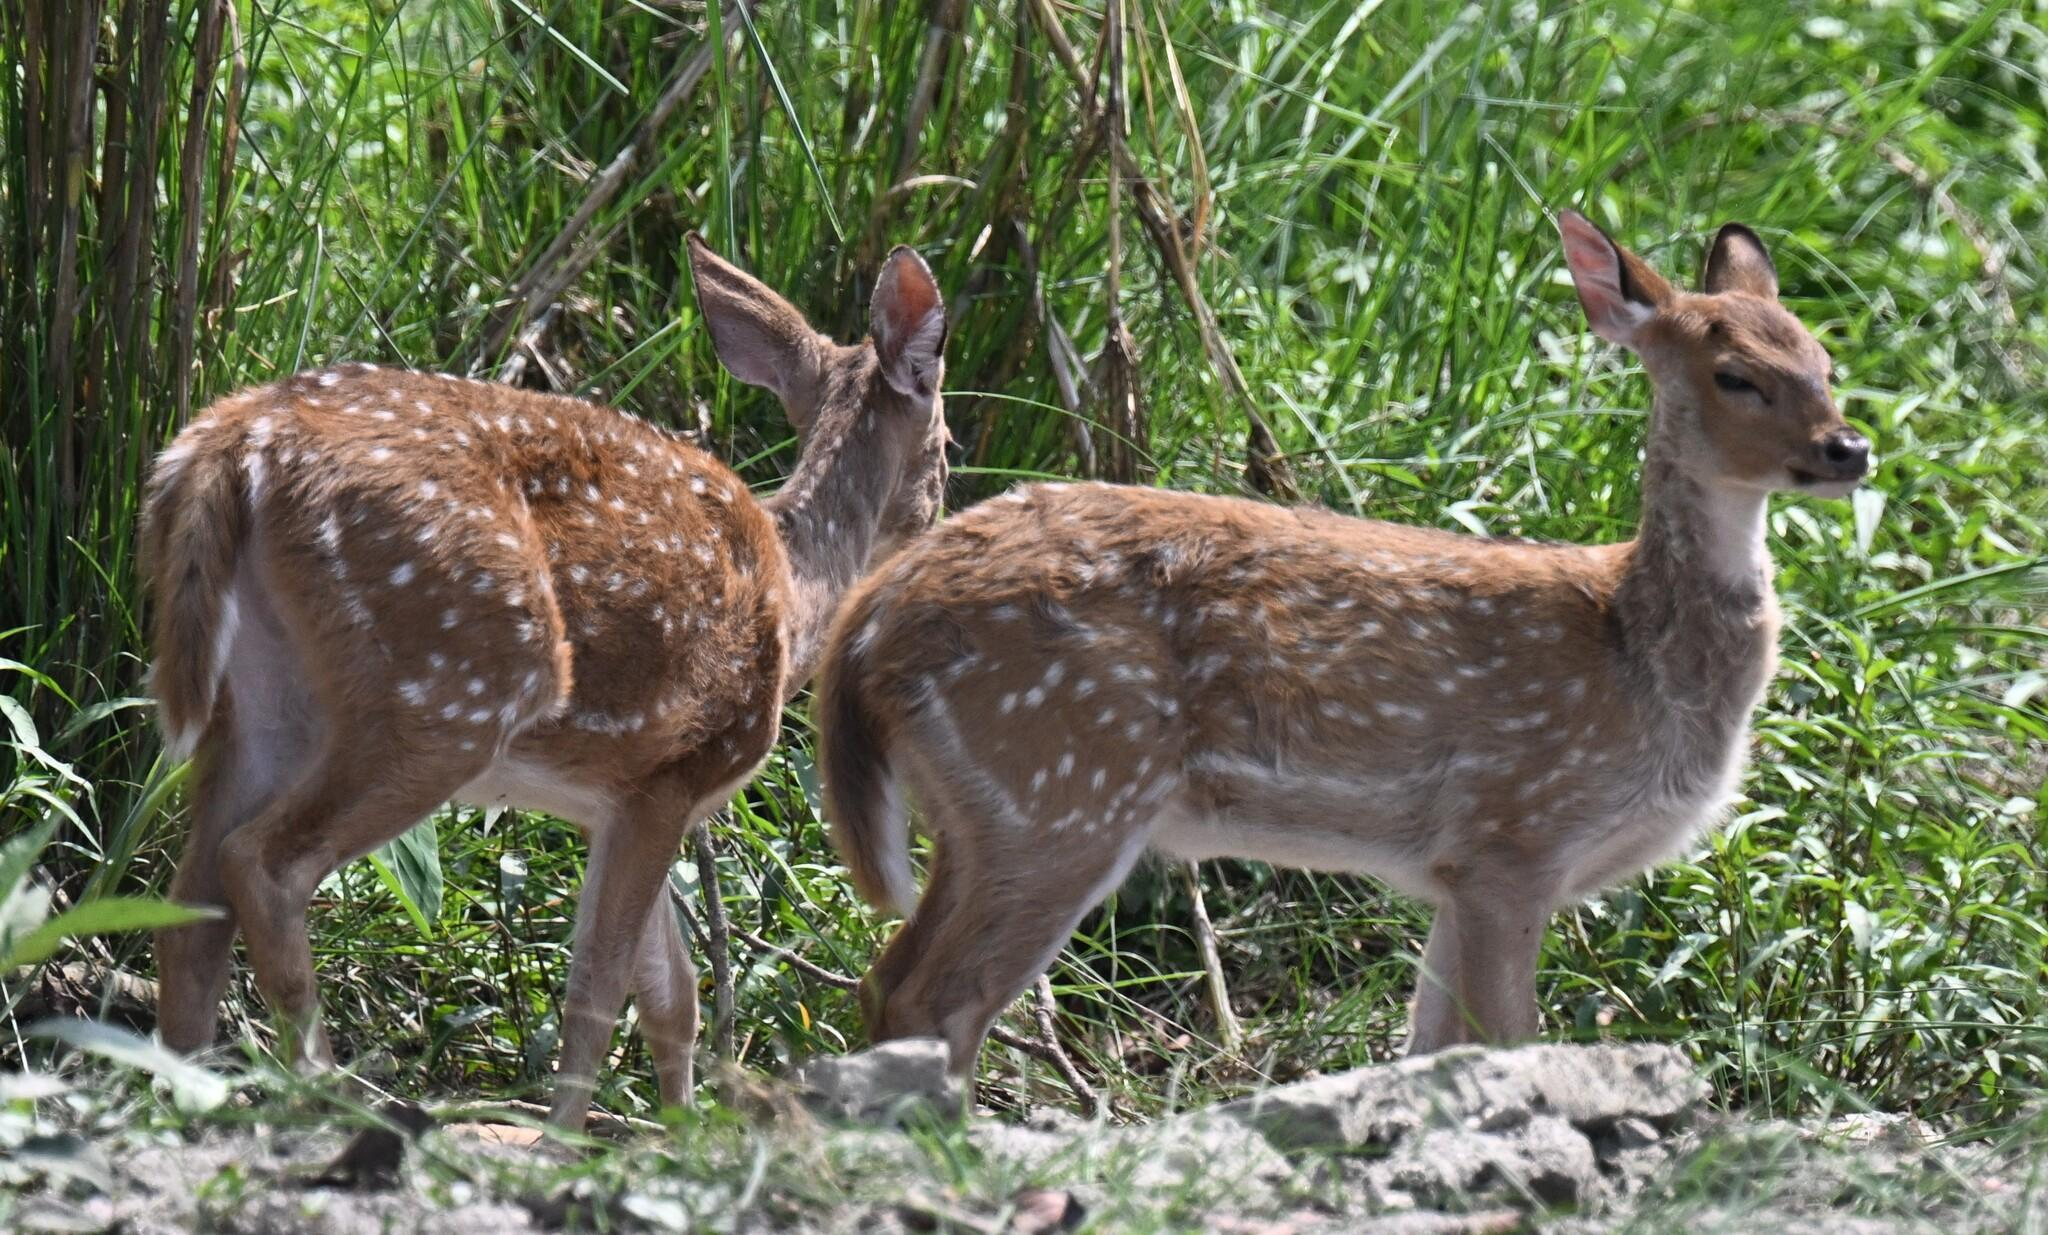Deer: (819, 217, 1870, 1073), (140, 246, 944, 1125)
